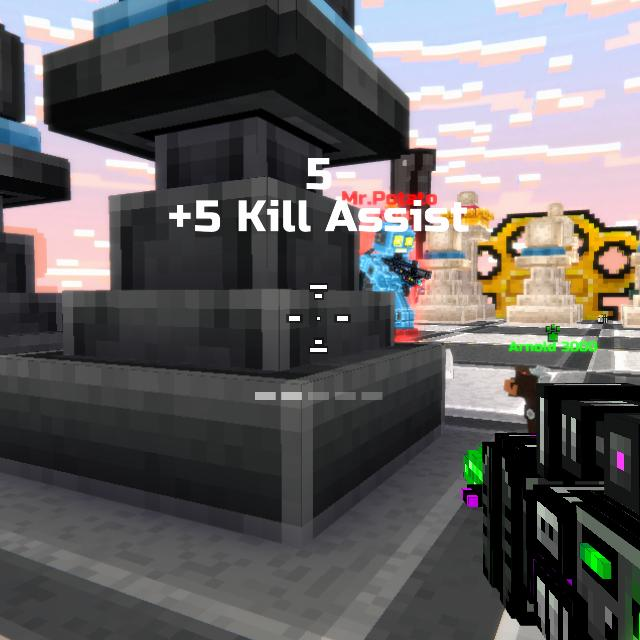Enemy: (359, 221, 422, 337)
